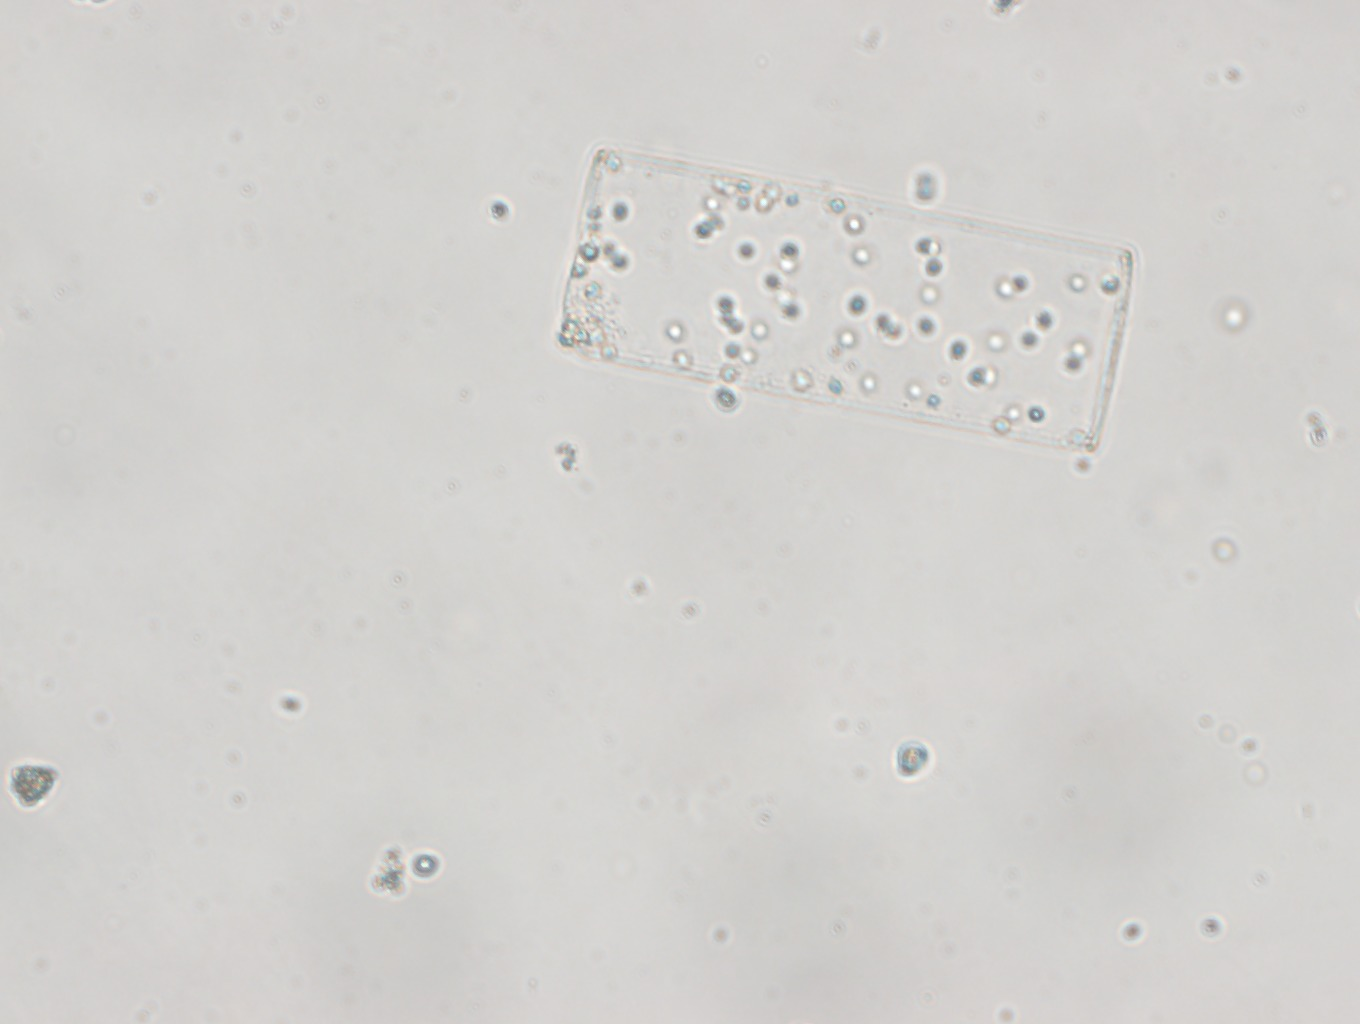guinardia flaccida: (553, 142, 1133, 451)
